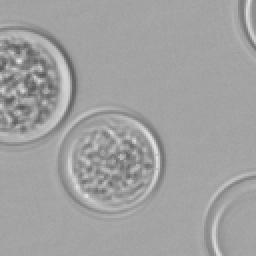picoshell: (56, 106, 164, 218), (0, 24, 74, 144), (202, 172, 254, 254), (236, 0, 254, 60)
